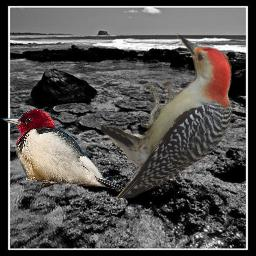Woodpecker: (101, 33, 238, 198), (1, 109, 127, 190)
